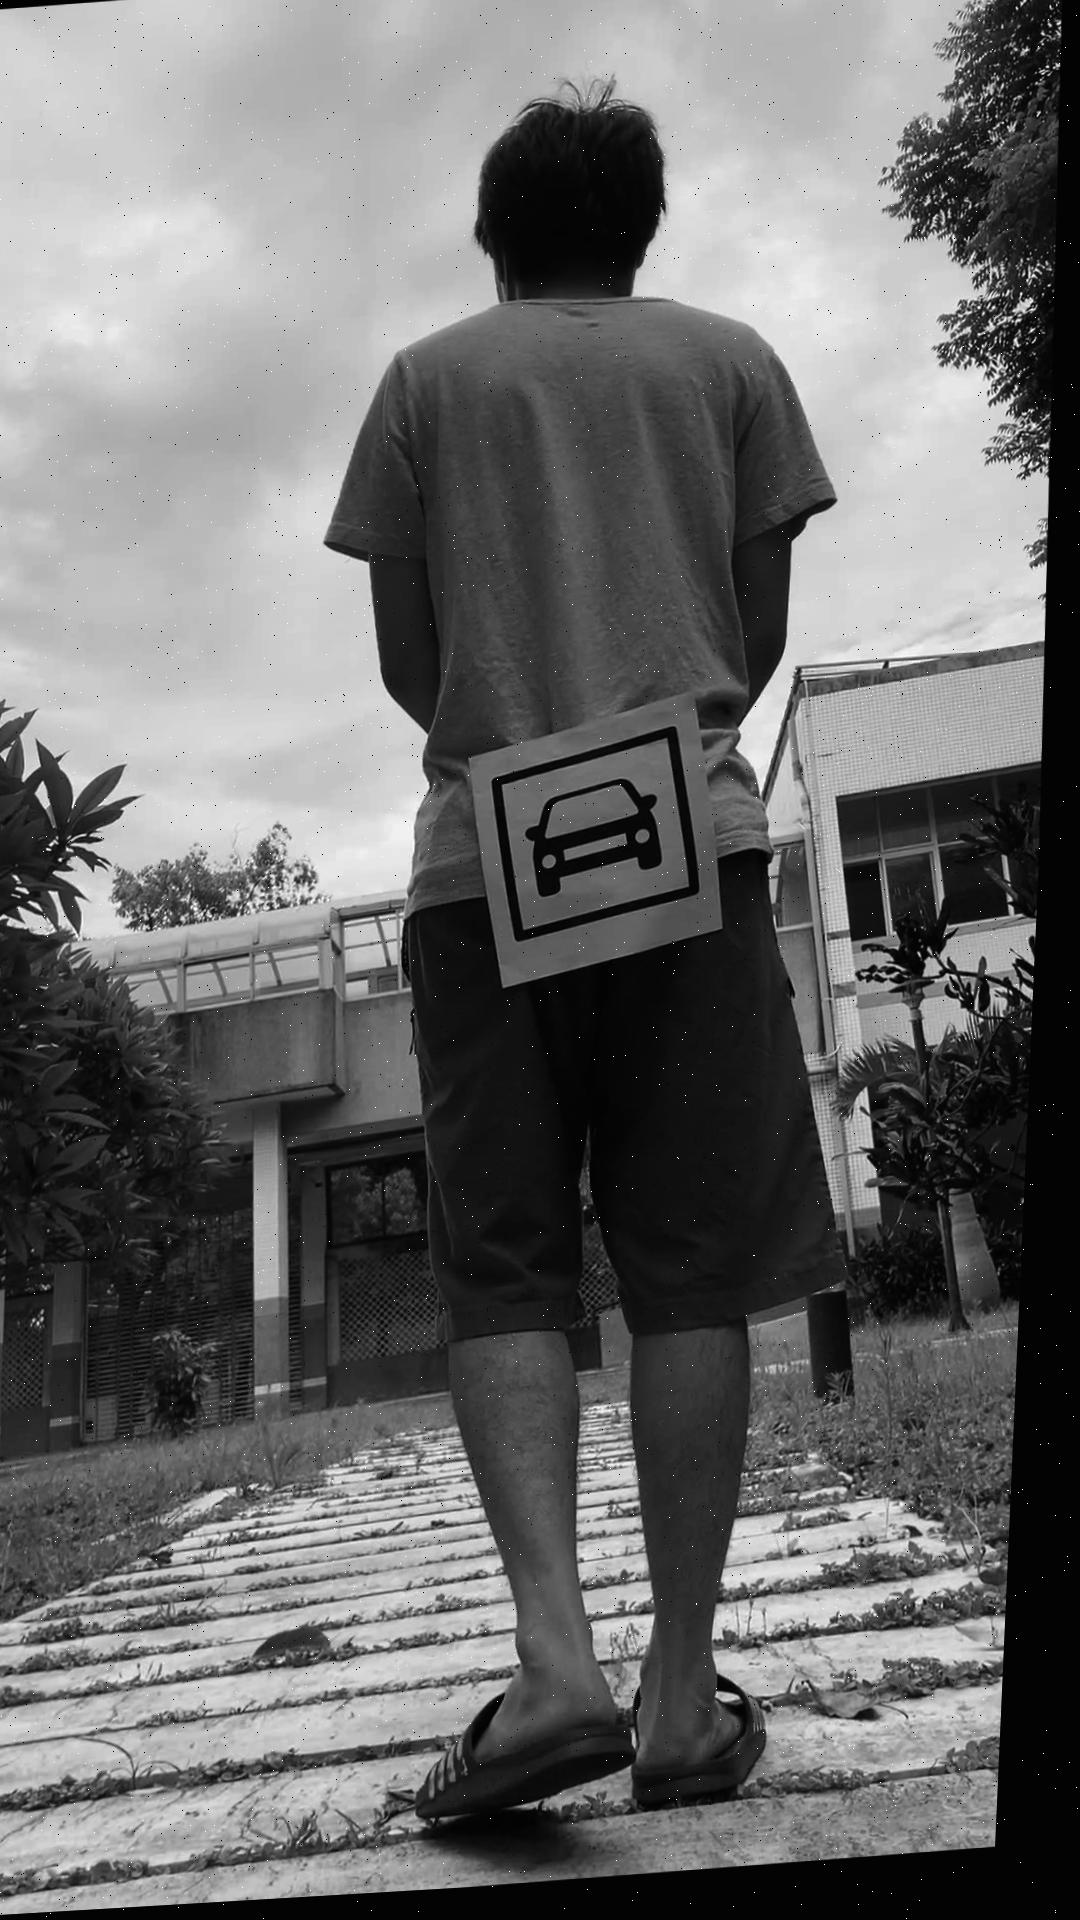car_img: (492, 731, 717, 952)
